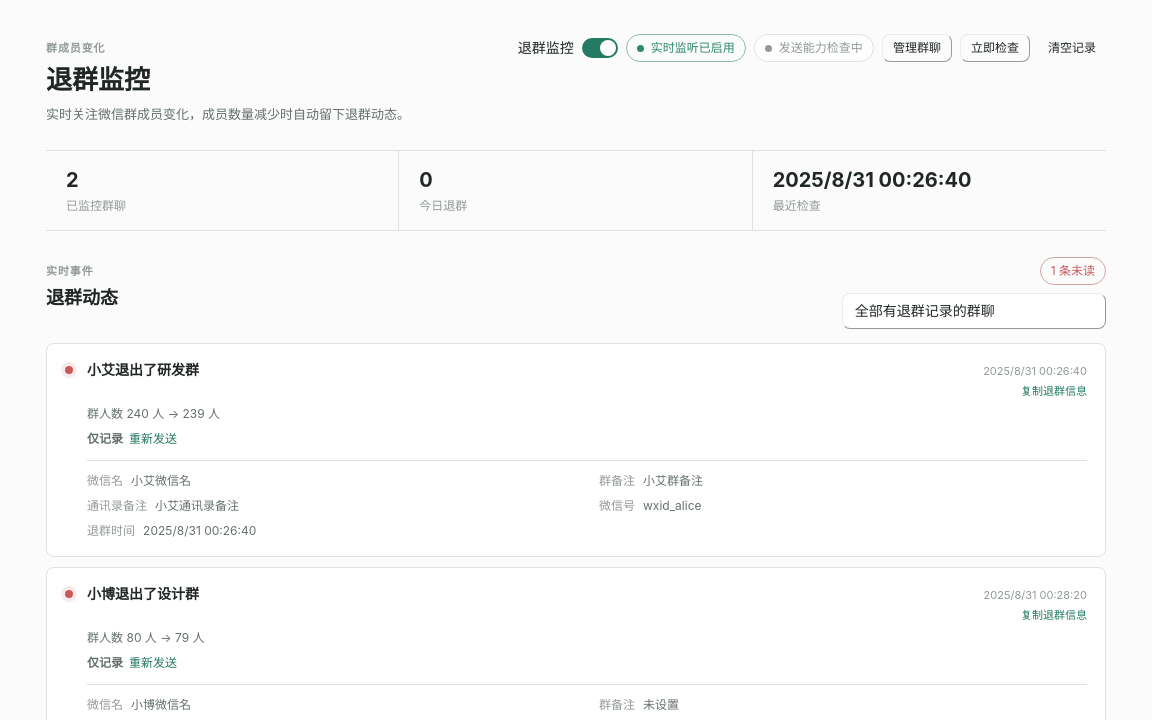
Test: GroupExitMonitorWorkspace › copies the exit notice built from the template saved on the management page
This screenshot has width=1152, height=720.
Click the button named "复制退群信息：小艾退出了研发群".
click(1054, 391)  # box [1021, 382, 1087, 400]
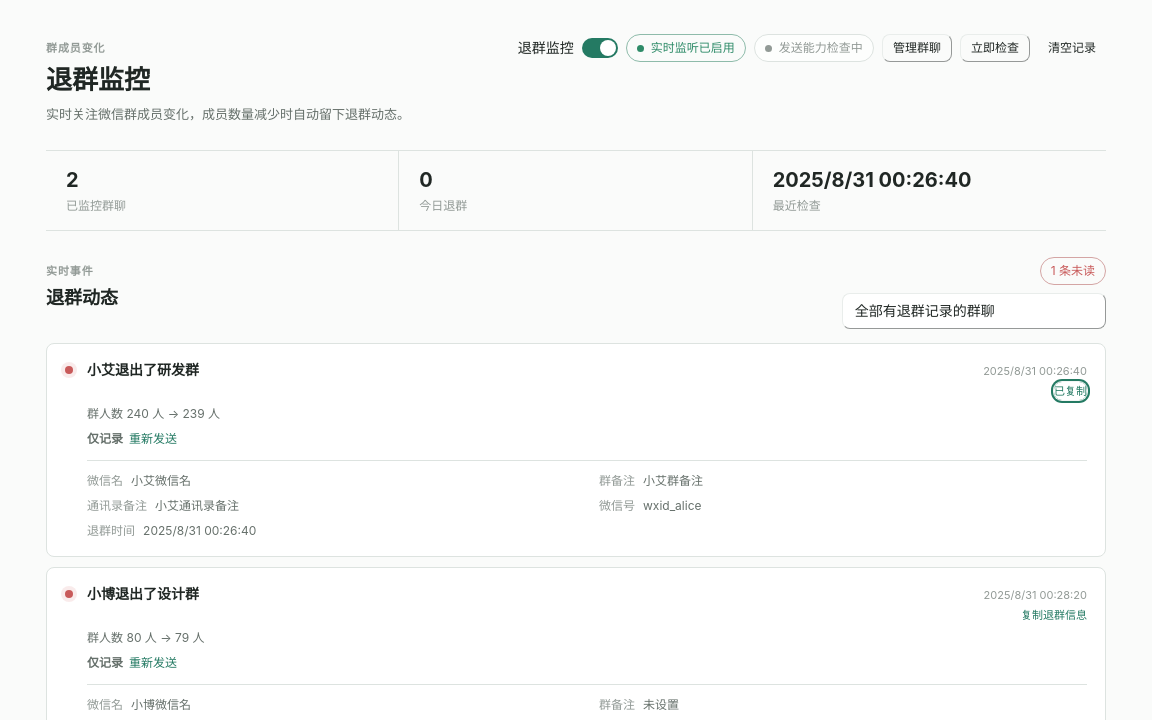
Check: the button "已复制" is shown, box [1054, 382, 1087, 400]
